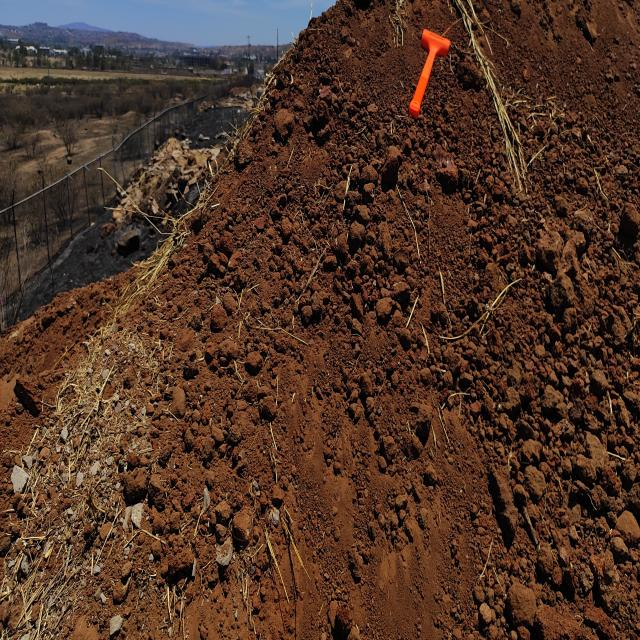Orange_hammer: (408, 27, 451, 119)
rock: (452, 35, 494, 96), (118, 464, 150, 510), (273, 101, 300, 151), (538, 232, 563, 277), (16, 379, 44, 414), (580, 13, 600, 58), (336, 605, 355, 630), (209, 304, 230, 326)
